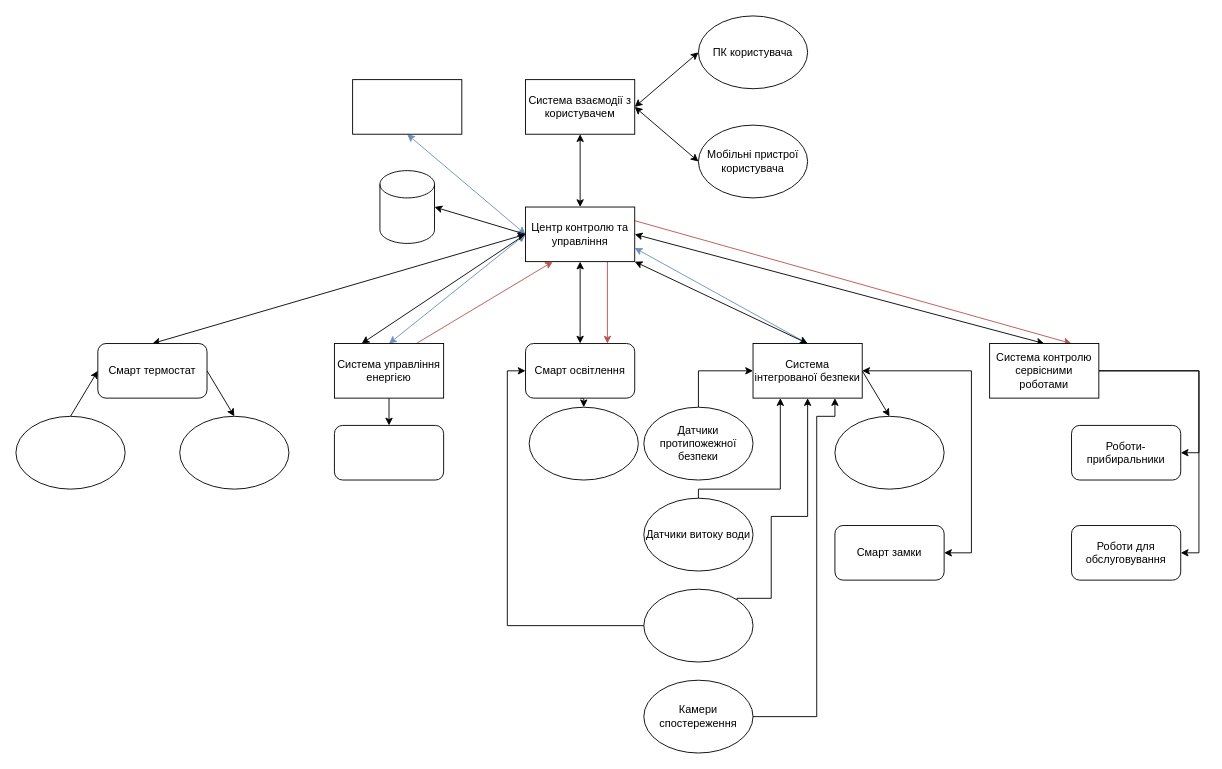
The diagram is 1222 pixels wide and 769 high, and some of its shapes have lost their labels. Each missing label, with the centre of its shape:
"База даних" goes at pixel 407 206.
"Датчики вологості і температури" goes at pixel 70 452.
"Датчики руху" goes at pixel 698 625.
"Кондиціонери, котли, теплові насоси" goes at pixel 234 452.
"Лампи та інші елементи освітлення" goes at pixel 583 443.
"Сигналізація будинку" goes at pixel 889 452.
"Система взаємодії зі Smart City" goes at pixel 407 106.
"Смарт розетки" goes at pixel 389 452.
